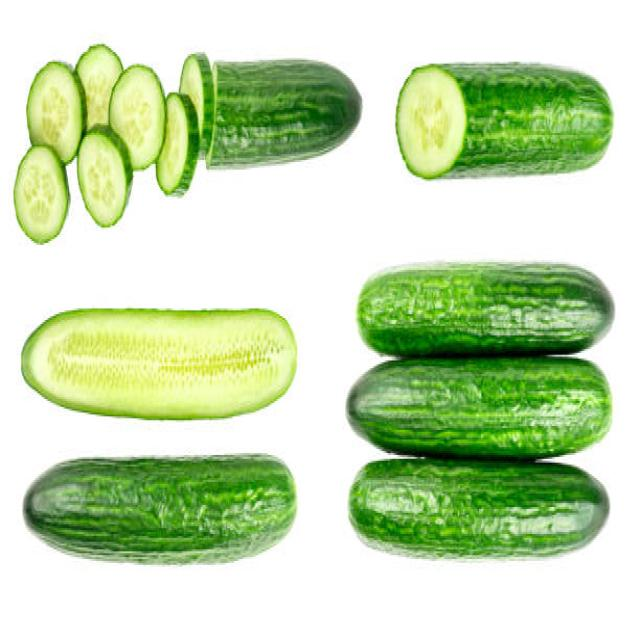cucumber: (20, 305, 298, 423), (21, 451, 296, 568), (344, 356, 613, 462), (344, 456, 610, 561), (396, 62, 614, 183), (357, 263, 615, 364), (182, 55, 362, 170)
